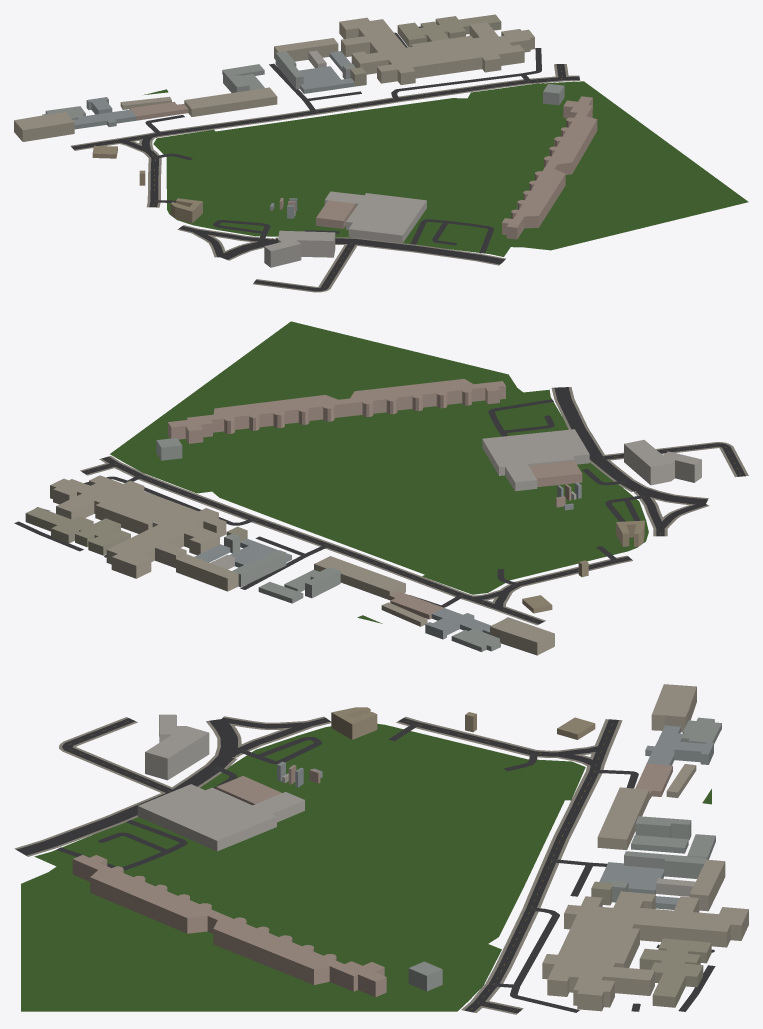
The picture shows the model from 3 angles, top to bottom: view 1: azimuth 30°, elevation 25°; view 2: azimuth 150°, elevation 25°; view 3: azimuth 270°, elevation 25°; orthographic projection. The views are drawn at different scales.
Parts seen in each view (by area): view 1: tile_1_1; view 2: tile_1_1; view 3: tile_1_1.
Boxes of the visible parts, x1=… form: tile_1_1: x1=14, y1=14, x2=748, y2=292; tile_1_1: x1=14, y1=321, x2=748, y2=655; tile_1_1: x1=14, y1=684, x2=748, y2=1014.
Bounding box in the file's own units: 432 × 14 × 426.
